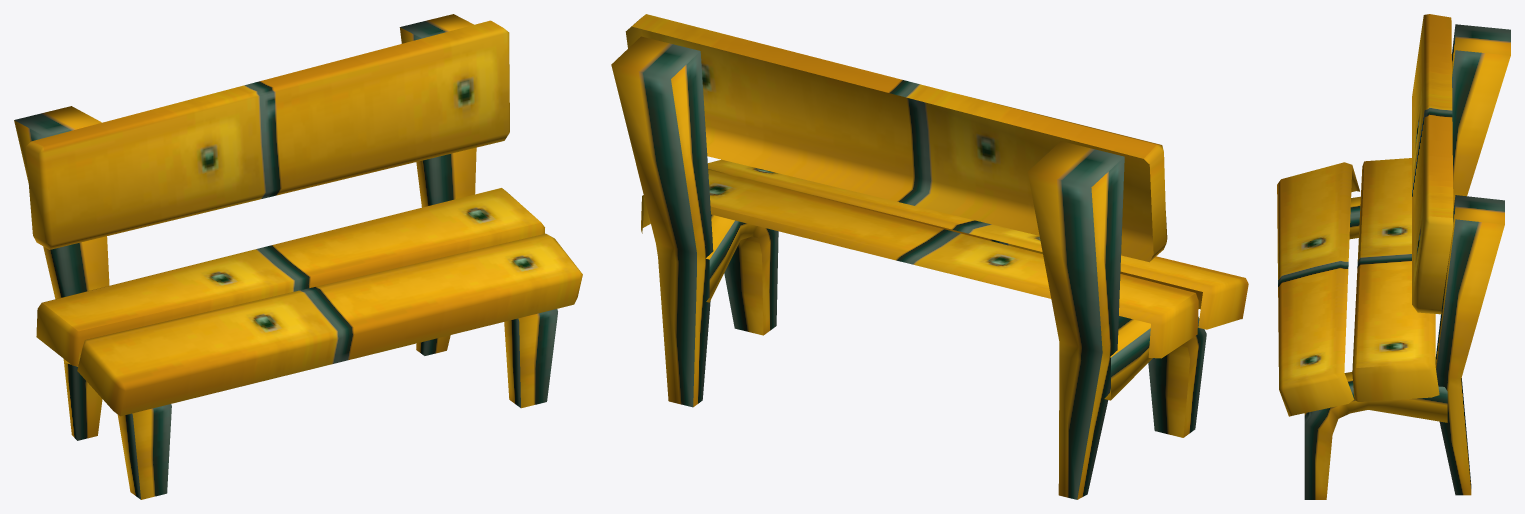
The model's file is fobj_bench2x1.dae.
3 views of the same model, side by side, from view 1: azimuth 30°, elevation 25°; view 2: azimuth 150°, elevation 25°; view 3: azimuth 270°, elevation 25° (orthographic). The views are drawn at different scales.
Parts seen in each view (by area): view 1: _0_0_node; view 2: _0_0_node; view 3: _0_0_node.
Boxes of the visible parts, x1=… form: _0_0_node: x1=14, y1=14, x2=582, y2=499; _0_0_node: x1=611, y1=14, x2=1248, y2=499; _0_0_node: x1=1277, y1=14, x2=1510, y2=499.
Bounding box in the file's own units: 55.03 × 35.97 × 25.57.
Materials: 1 (1 with a texture image).
